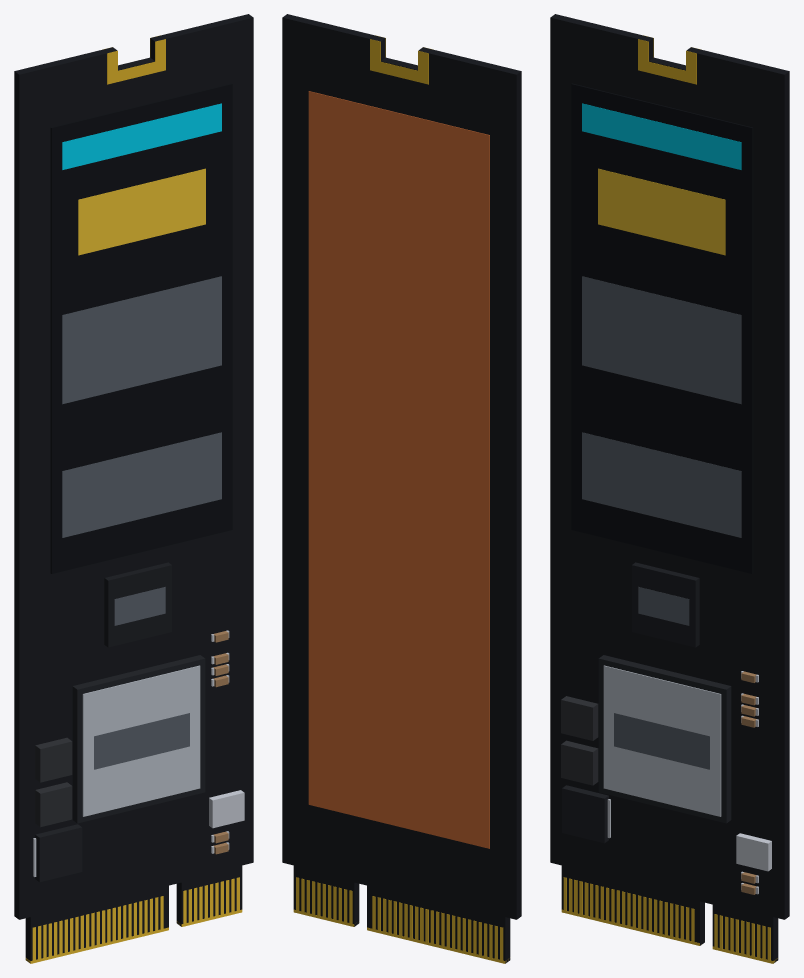
The model's file is SSD_M2_512GB_NVME_PCIE4_LAPTOP.obj.
The picture shows the model from 3 angles, left to right: view 1: azimuth 30°, elevation 25°; view 2: azimuth 150°, elevation 25°; view 3: azimuth 330°, elevation 25°; orthographic projection.
Bounding box in the file's own units: 22 × 80 × 1.79.
